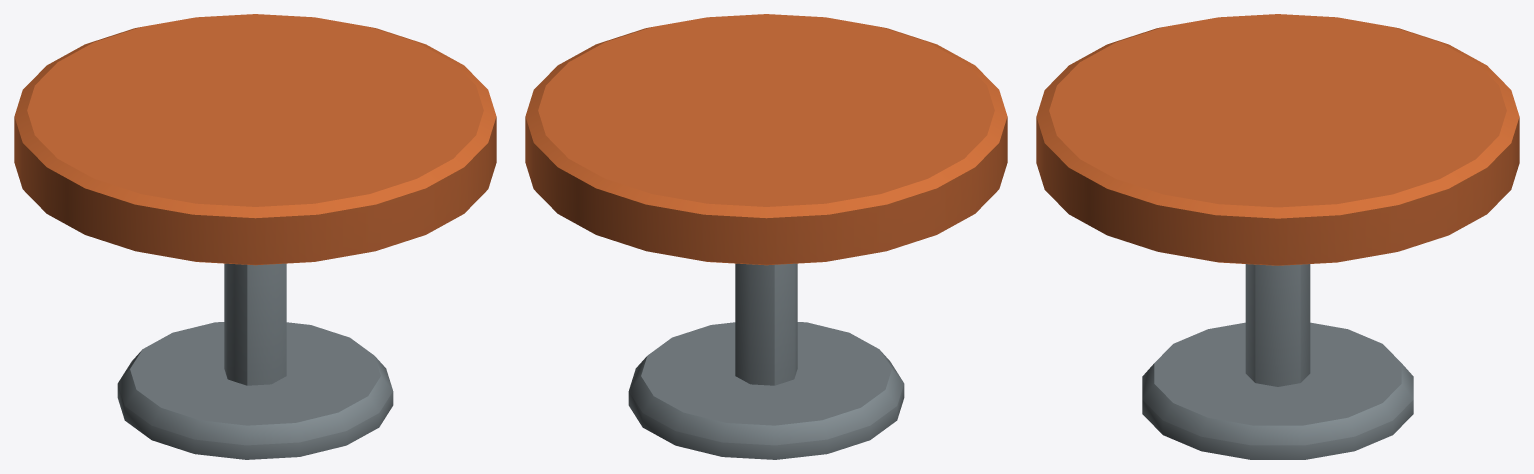
File: table_round_A_small.obj
3 views of the same model, side by side, from view 1: azimuth 30°, elevation 25°; view 2: azimuth 150°, elevation 25°; view 3: azimuth 270°, elevation 25° (orthographic).
Parts seen in each view (by area): view 1: table_round_A_small_Cylinder.070; view 2: table_round_A_small_Cylinder.070; view 3: table_round_A_small_Cylinder.070.
Part boxes in pixels (x1,y1,x2,y2): table_round_A_small_Cylinder.070: [14, 14, 496, 459]; table_round_A_small_Cylinder.070: [525, 14, 1007, 459]; table_round_A_small_Cylinder.070: [1036, 14, 1519, 459].
Bounding box in the file's own units: 1.5 × 1 × 1.5.
Materials: 1 (1 with a texture image).
